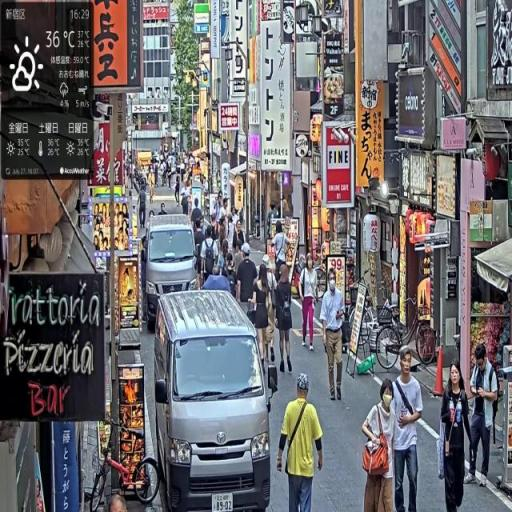person: (278, 373, 327, 512), (391, 348, 425, 512), (440, 360, 473, 512), (362, 378, 398, 512), (468, 343, 501, 488), (319, 271, 349, 404), (274, 262, 296, 377), (253, 264, 272, 379), (301, 254, 320, 353), (236, 244, 260, 315), (269, 219, 292, 293), (200, 226, 220, 285), (233, 219, 248, 262), (192, 196, 205, 242), (137, 185, 149, 230), (181, 184, 193, 219), (175, 170, 184, 207)
